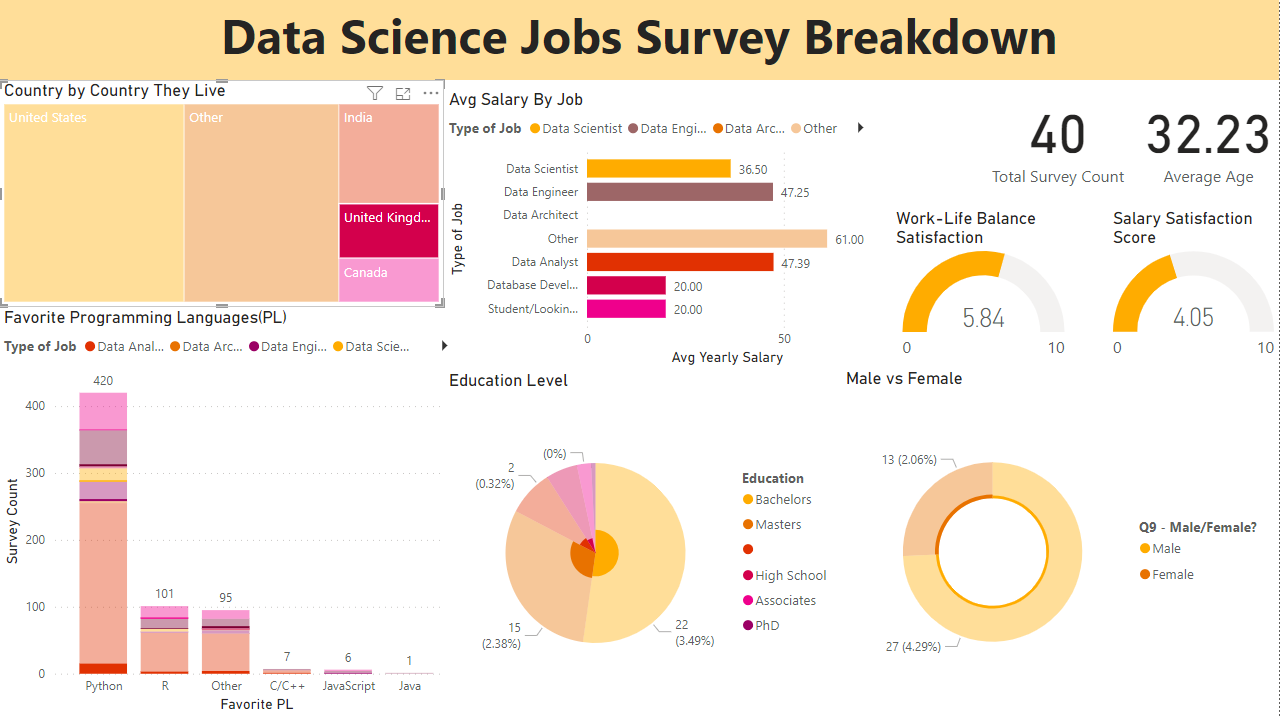

Layout of this report page (visuals, bound fields, positions):
{"tool":"powerbi","page":{"name":"Page 1","canvas":[1280,720],"ordinal":0},"visuals":[{"type":"textbox","box":[0,0,1280,83.2],"z":0},{"type":"card","fields":{"Values":["Count(Data Professional Survey.Unique ID)"]},"box":[978.7,84,159.9,111.7],"z":1000},{"type":"card","fields":{"Values":["Avg(Data Professional Survey.Q10 - Current Age)"]},"box":[1138.6,84,141.4,111.7],"z":2000},{"type":"barChart","title":"Avg Salary By Job","fields":{"Category":["Data Professional Survey.Q1 - Which Title Best Fits your Current Role?.1"],"Y":["Avg(Data Professional Survey.Average Salary)"],"Series":["Data Professional Survey.Q1 - Which Title Best Fits your Current Role?.1"]},"box":[444.8,92.5,436.6,280.4],"z":3000},{"type":"columnChart","title":"Favorite Programming Languages(PL)","fields":{"Category":["Data Professional Survey.Q5 - Favorite Programming Language.1"],"Y":["Count(Data Professional Survey.Unique ID)"],"Series":["Data Professional Survey.Q1 - Which Title Best Fits your Current Role?.1"]},"box":[0,310.2,465.4,409.9],"z":4000},{"type":"treemap","fields":{"Group":["Data Professional Survey.Q11 - Which Country do you live in?.1"],"Values":["CountNonNull(Data Professional Survey.Q11 - Which Country do you live in?.1)"]},"box":[0,83.2,444.8,227],"z":5000},{"type":"donutChart","title":"Male vs Female","fields":{"Y":["CountNonNull(Data Professional Survey.Q9 - Male/Female?)"],"Category":["Data Professional Survey.Q9 - Male/Female?","Data Professional Survey.Q11 - Which Country do you live in?.1"]},"box":[842.4,370.9,437.6,349.3],"z":6000},{"type":"gauge","title":"Salary Satisfaction Score","fields":{"Y":["Avg(Data Professional Survey.Q6 - How Happy are you in your Current Position with the following? (Salary))"],"MinValue":["Min(Data Professional Survey.Q6 - How Happy are you in your Current Position with the following? (Salary))"],"MaxValue":["Max(Data Professional Survey.Q6 - How Happy are you in your Current Position with the following? (Salary))"]},"box":[1109.5,210.6,170.5,160.3],"z":7000},{"type":"gauge","title":"Work-Life Balance Satisfaction","fields":{"Y":["Avg(Data Professional Survey.Q6 - How Happy are you in your Current Position with the following? (Work/Life Balance))"],"MinValue":["Min(Data Professional Survey.Q6 - How Happy are you in your Current Position with the following? (Work/Life Balance))"],"MaxValue":["Max(Data Professional Survey.Q6 - How Happy are you in your Current Position with the following? (Work/Life Balance))"]},"box":[891.7,210.6,184.9,160.3],"z":8000},{"type":"pieChart","title":"Education Level","fields":{"Y":["CountNonNull(Data Professional Survey.Q12 - Highest Level of Education)"],"Category":["Data Professional Survey.Q12 - Highest Level of Education"]},"box":[444.8,372.9,397.6,347.2],"z":9000}]}

Visuals, with their boxes in screenshot pixels (x1, y1, x2, y2), scaled from the page's 1280x720 canvas onto the 1280x717 screenshot:
textbox: x1=0, y1=0, x2=1279, y2=83
card - Count(Data Professional Survey.Unique ID): x1=979, y1=84, x2=1139, y2=195
card - Avg(Data Professional Survey.Q10 - Current Age): x1=1139, y1=84, x2=1279, y2=195
"Avg Salary By Job" barChart: x1=445, y1=92, x2=881, y2=371
"Favorite Programming Languages(PL)" columnChart: x1=0, y1=309, x2=465, y2=716
treemap - Data Professional Survey.Q11 - Which Country do you live in?.1 x CountNonNull(Data Professional Survey.Q11 - Which Country do you live in?.1): x1=0, y1=83, x2=445, y2=309
"Male vs Female" donutChart: x1=842, y1=369, x2=1279, y2=716
"Salary Satisfaction Score" gauge: x1=1110, y1=210, x2=1279, y2=369
"Work-Life Balance Satisfaction" gauge: x1=892, y1=210, x2=1077, y2=369
"Education Level" pieChart: x1=445, y1=371, x2=842, y2=716
